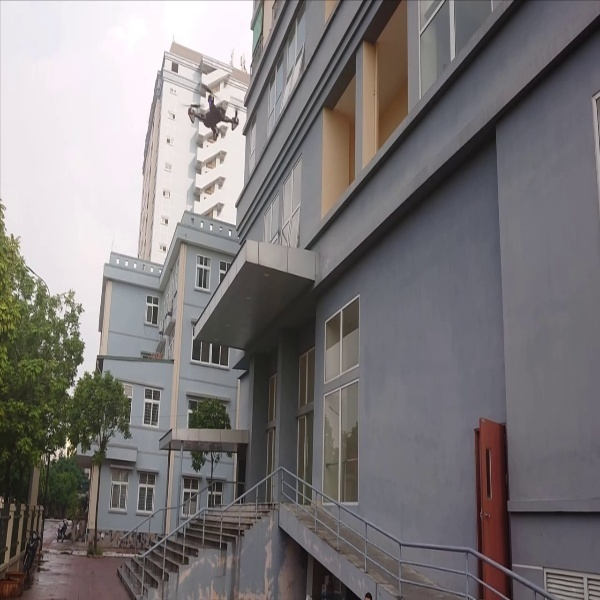drone: (181, 82, 245, 144)
